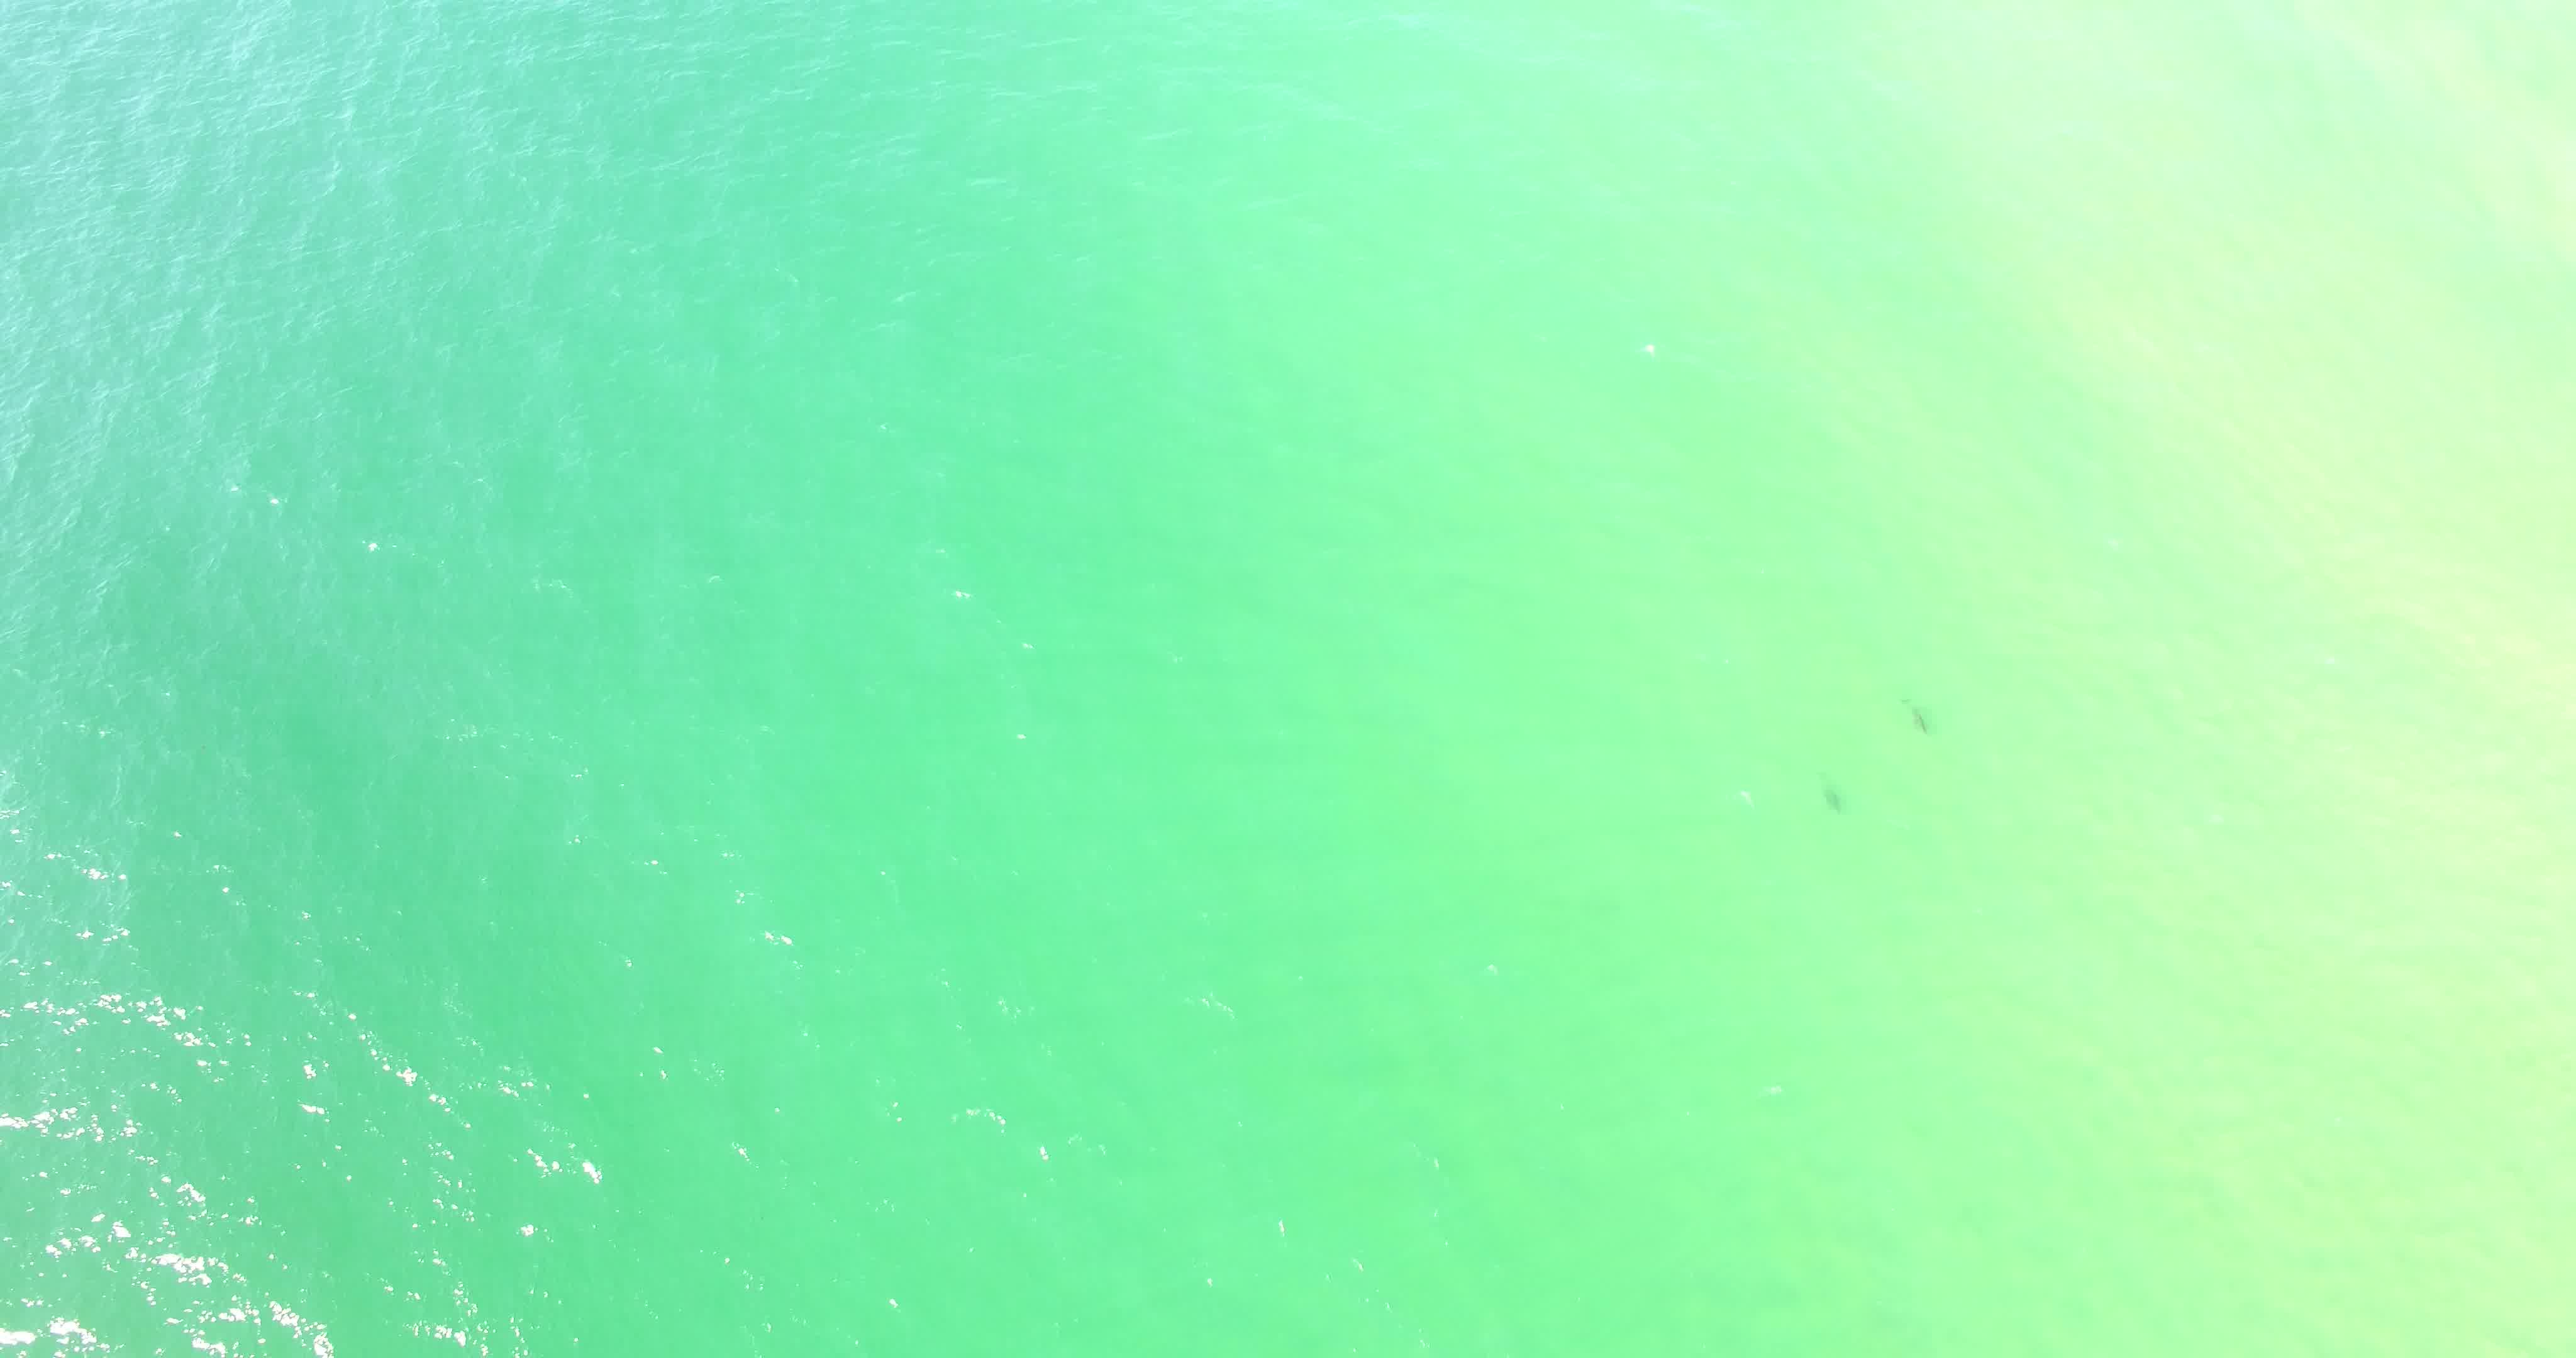dolphin: (1876, 675, 1944, 750), (1804, 745, 1857, 821)
